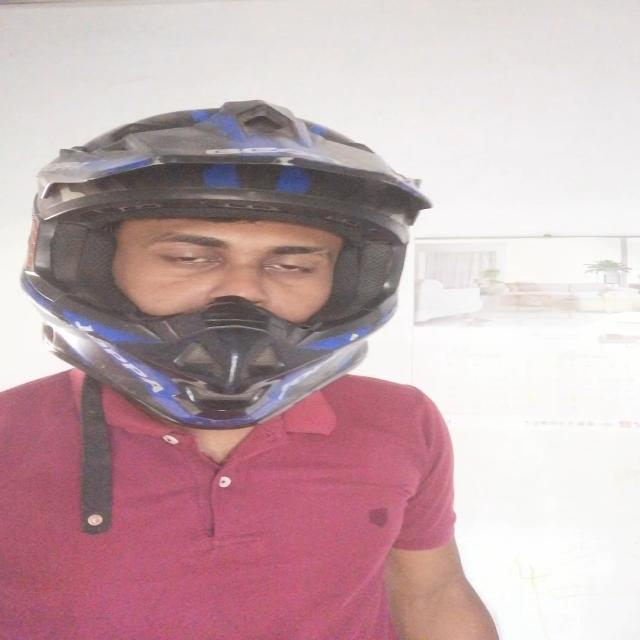Helmet_Wearer: (16, 96, 434, 462)
